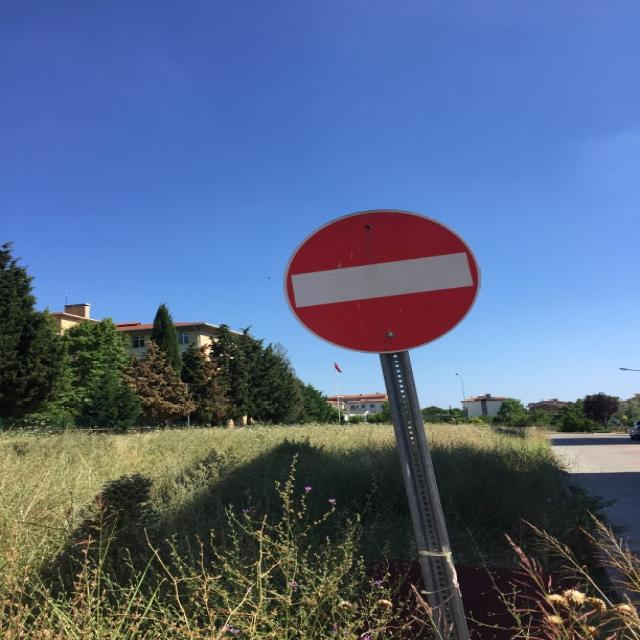girisyok: (285, 208, 479, 354)
